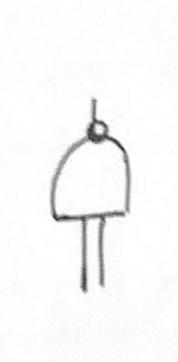NAND: (49, 119, 142, 234)
